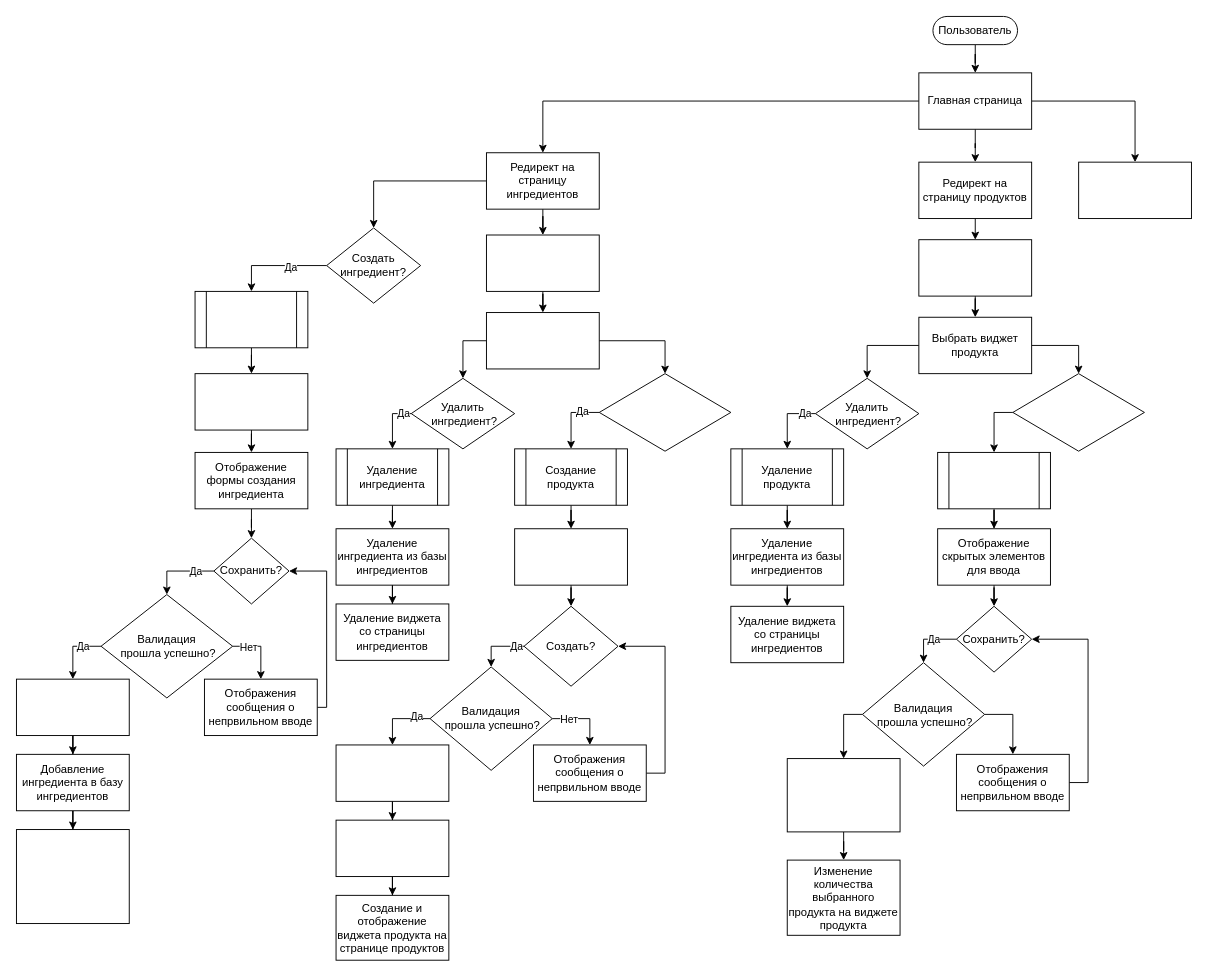
The diagram is 1208 pixels wide and 977 high, and some of its shapes have lost their labels. Here are the shapes that lost their labels. From the top down, the centre of each, then its label:
point 1134,190: Редирект на страницу рецептов
point 542,262: Отображение всех виджетов ингредиентов
point 975,267: Отображение всех виджетов продуктов
point 251,319: Создание ингредиента
point 542,340: Выбрать виджет ингредиента
point 251,401: Редирект на страницу создания ингредиента
point 664,412: Создать продукт из ингредиента?
point 1078,412: Изменить количество продукта?
point 993,480: Изменение количества продукта
point 570,556: Диалоговое окно создания продукта из ингредиента
point 72,707: Отображение сообщения об успешном создании ингредиента
point 392,772: Отображение сообщения об успешном создании продукта
point 843,795: Изменение количества выбранного продукта в хранилище
point 392,848: Добавление продукта в хранилище
point 72,876: Создание и отображение виджета ингредиента на странице ингредиентов
